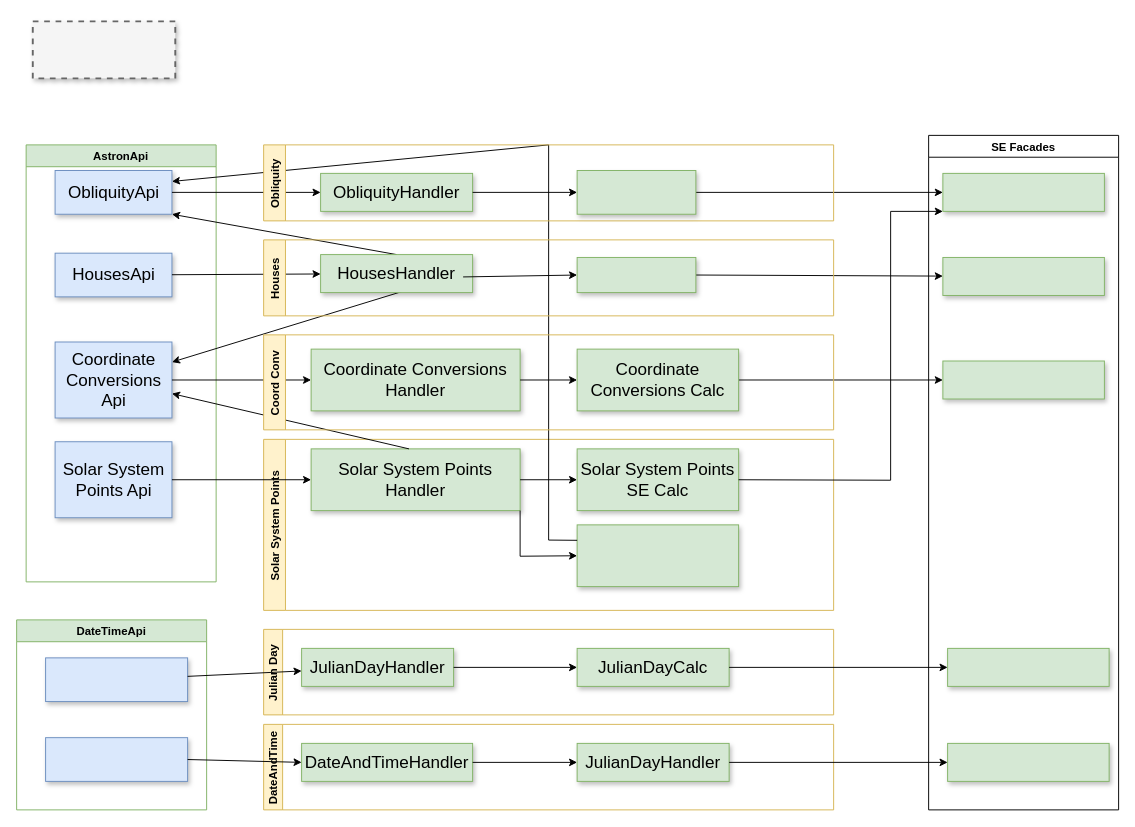
Some shapes in this 1135 by 827 pixel diagram are drawn without their labels. The centre of each missing label's shape, as x and y in pixels:
CalcUtFacade: the point at 1024,193
CoTransFacade: the point at 1024,381
DateAndTimeApi: the point at 117,760
Detailed examples: the point at 104,51
HousesCalc: the point at 637,276
HousesFacade: the point at 1024,277
JulDayFacade: the point at 1029,668
JulianDayApi: the point at 117,680
ObliquityCalc: the point at 637,193
RevJulFacade: the point at 1029,763
Solar System Points Elements Calc: the point at 658,556
